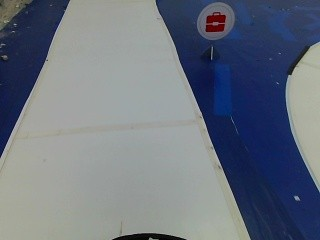company: (192, 1, 236, 42)
